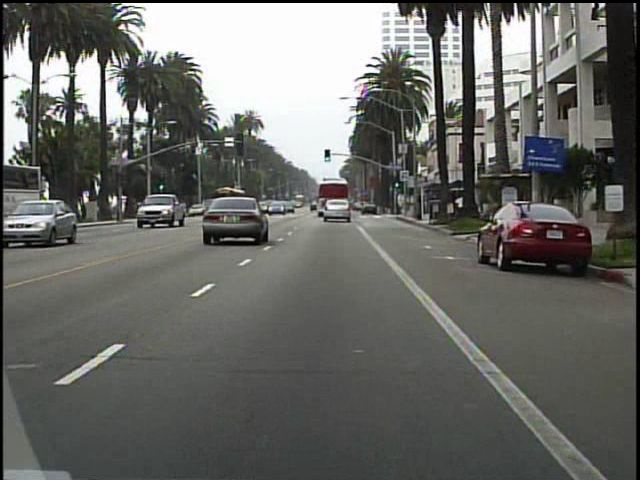person: (452, 192, 467, 221)
